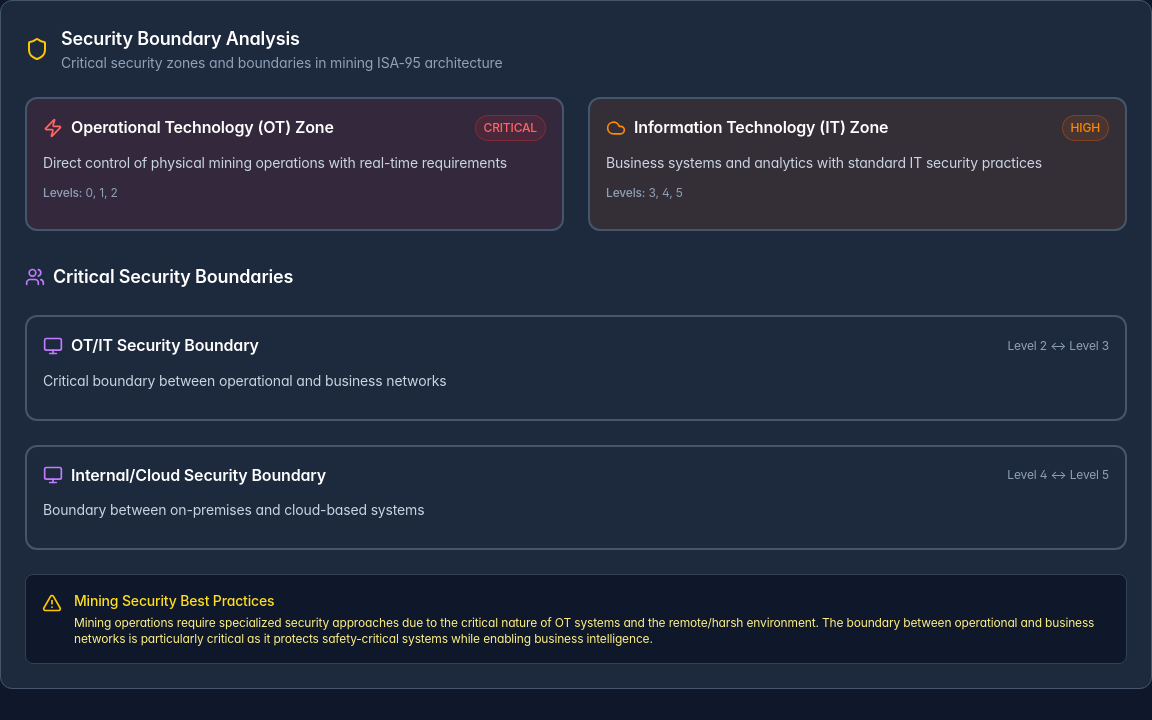
Scenario: SecurityBoundaryHighlight › expands security zone details when clicked
Click the text "Operational Technology (OT) Zone". click: (188, 128)
box: [43, 115, 334, 141]
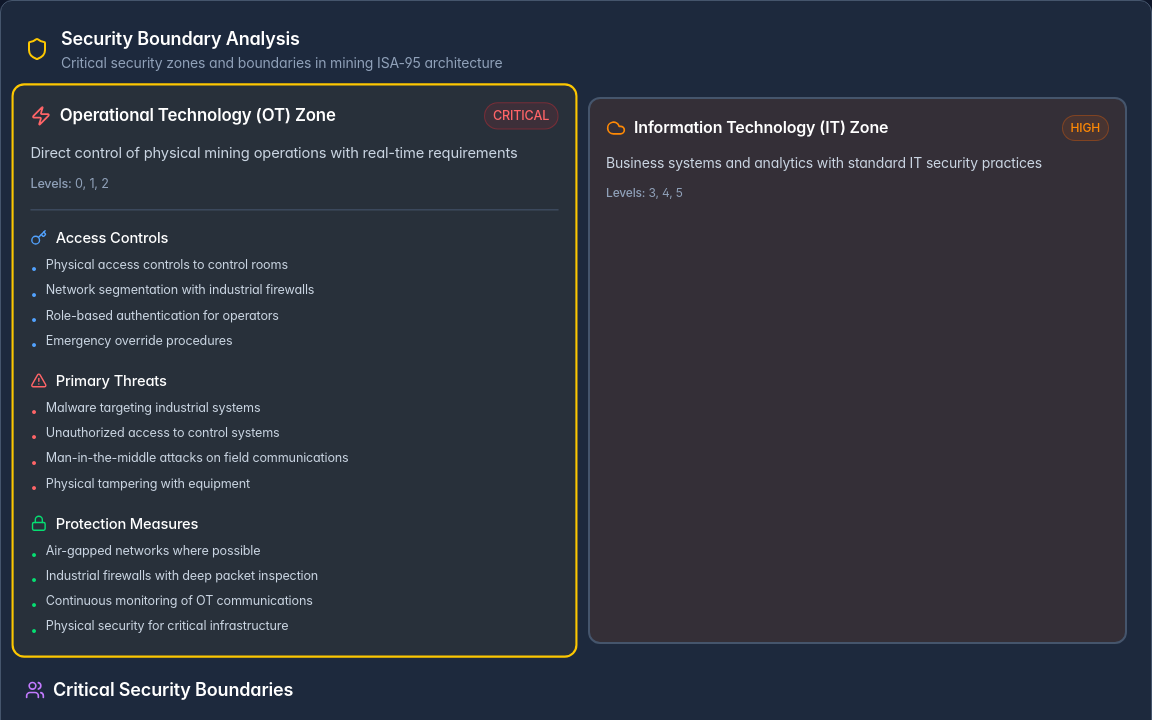
expect the text "Access Controls" is shown: met, box [56, 227, 168, 248]
expect the text "Primary Threats" is shown: met, box [56, 370, 167, 391]
expect the text "Protection Measures" is shown: met, box [56, 513, 198, 534]
